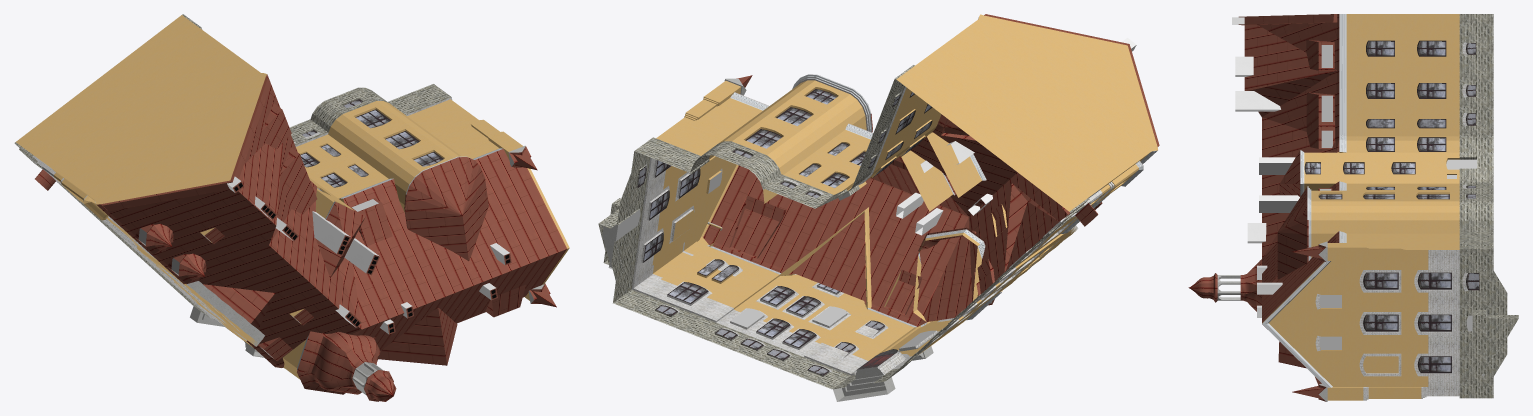
The model's file is Suur-Kloostri_22_1.obj.
The picture shows the model from 3 angles, left to right: view 1: azimuth 30°, elevation 25°; view 2: azimuth 150°, elevation 25°; view 3: azimuth 270°, elevation 25°; orthographic projection. The views are drawn at different scales.
Visible parts, largest first — view 1: Suur_kloostri_22_1; view 2: Suur_kloostri_22_1; view 3: Suur_kloostri_22_1.
Boxes of the visible parts, left/top/right/bottom form: Suur_kloostri_22_1: left=14, top=14, right=569, bottom=401; Suur_kloostri_22_1: left=598, top=14, right=1159, bottom=401; Suur_kloostri_22_1: left=1188, top=14, right=1518, bottom=401.
Bounding box in the file's own units: 35.93 × 24.49 × 24.34.
